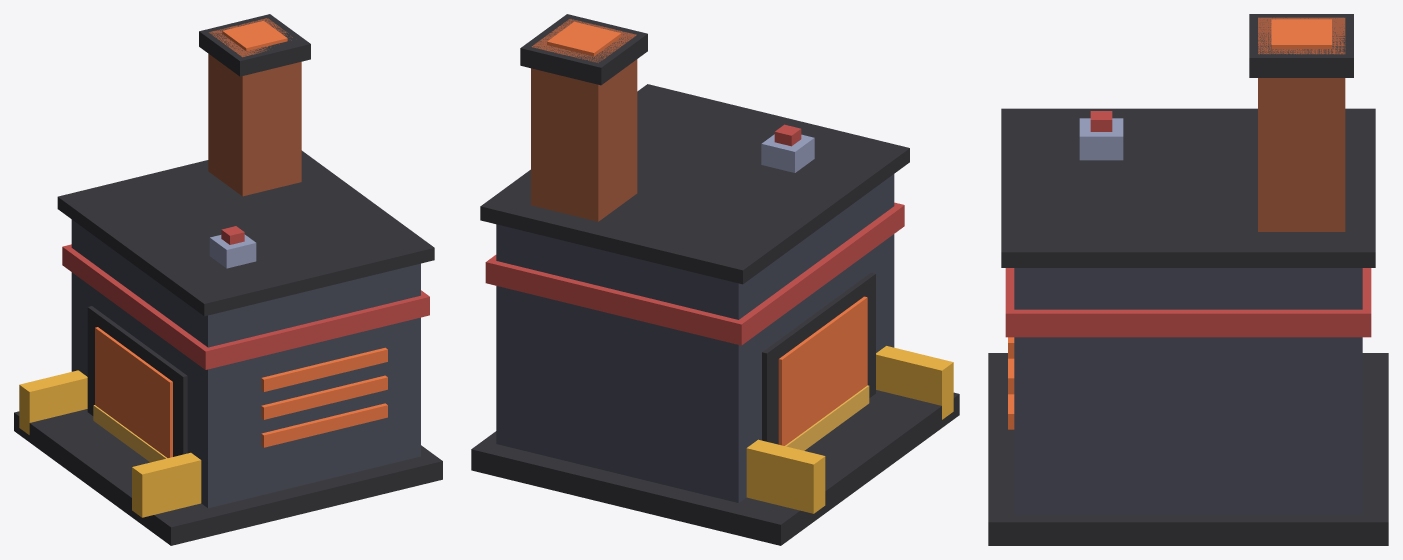
The model's file is furnace.obj.
3 renders of one model, left to right at view 1: azimuth 30°, elevation 25°; view 2: azimuth 150°, elevation 25°; view 3: azimuth 270°, elevation 25°, orthographic. The views are drawn at different scales.
Visible parts, largest first — view 1: furnace; view 2: furnace; view 3: furnace.
Part boxes in pixels (box(x1,y1,x2,y2)): furnace: box(14, 14, 442, 545); furnace: box(471, 14, 959, 545); furnace: box(988, 14, 1388, 545).
Size of the model in its own units: 0.96 by 1.2 by 0.92.
1 material, 1 textured.
